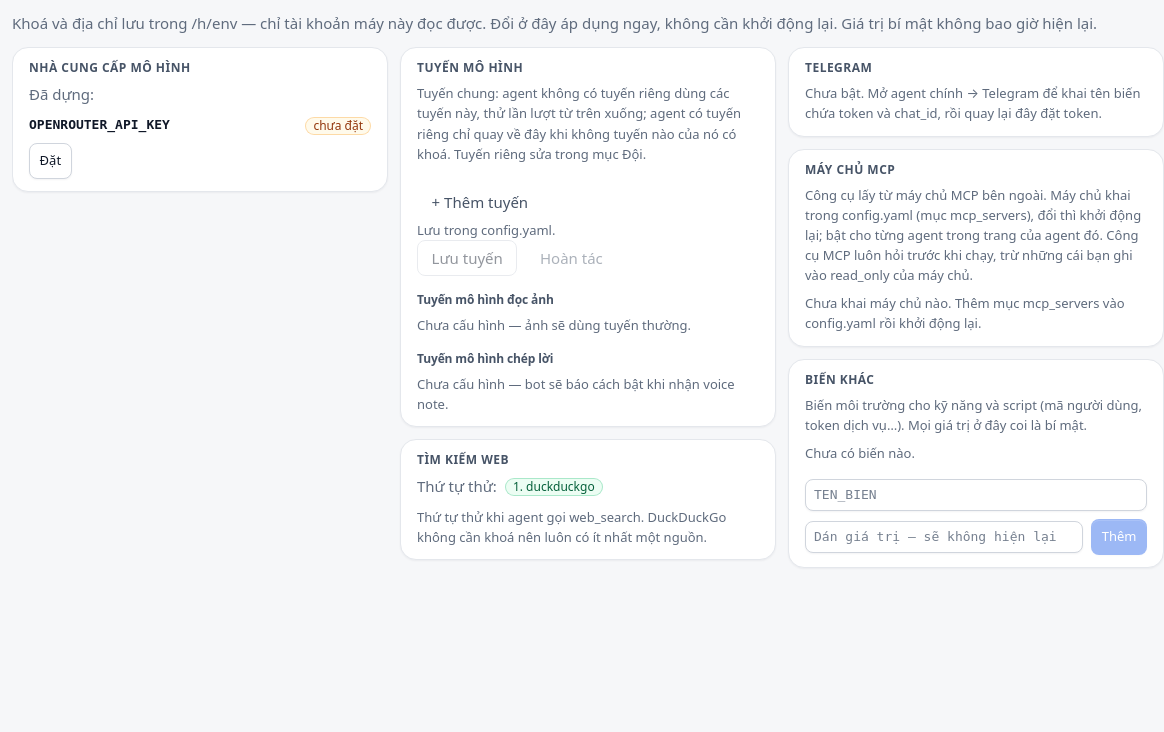
ConnectionsPanel › says why a save was refused
Click the button "Đặt" at (50, 161), box [29,143,72,179]
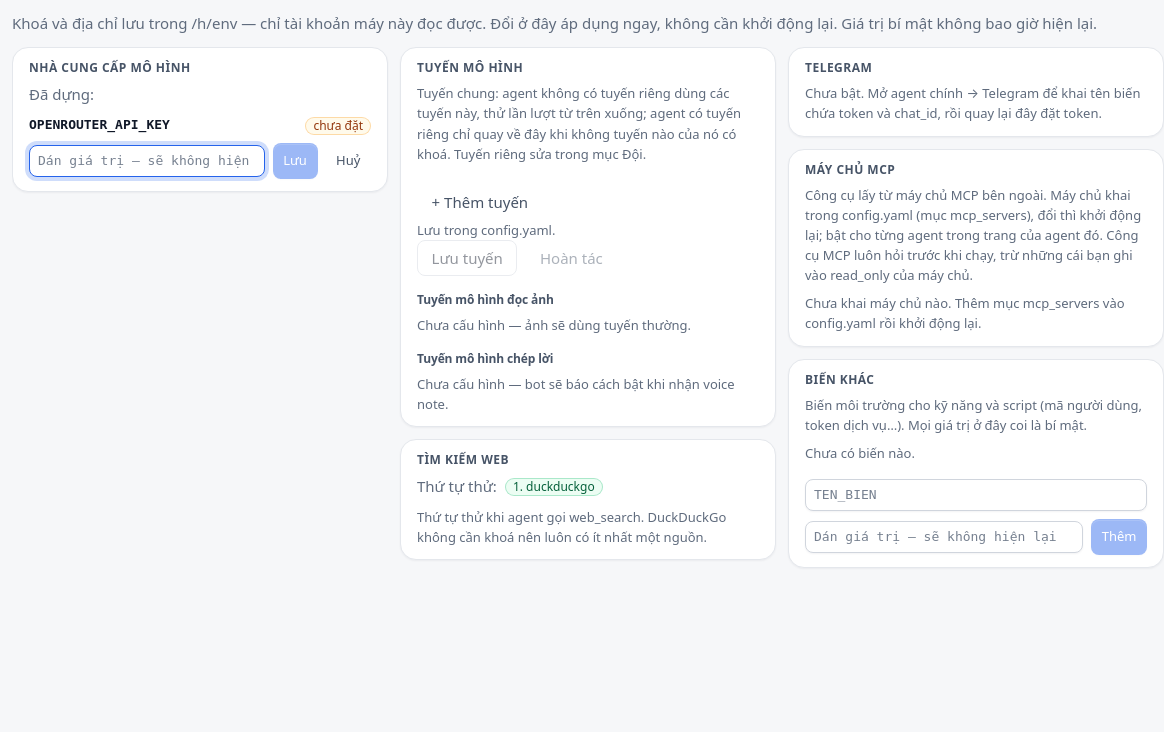
Type "x" into the password field with placeholder "Dán giá trị — sẽ không hiện lại" below "OPENROUTER_API_KEY" at (147, 161), box [29,145,265,176]
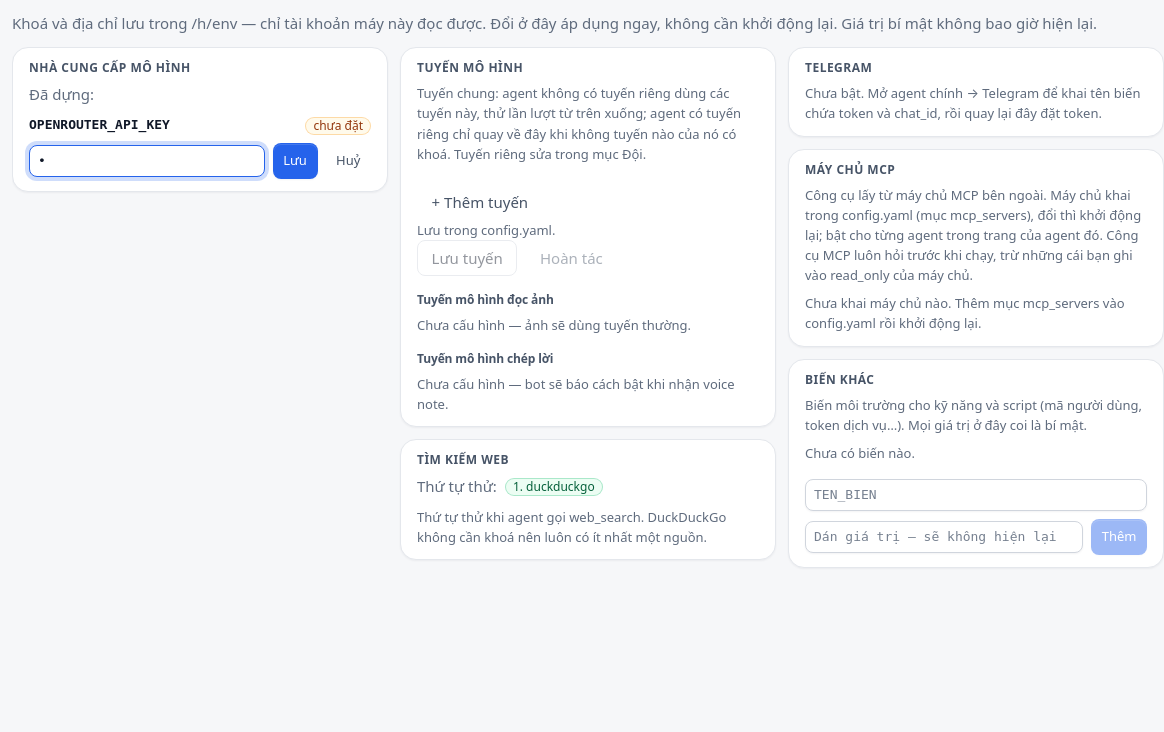
Click the button "Lưu" at (295, 161), box [273,143,318,179]
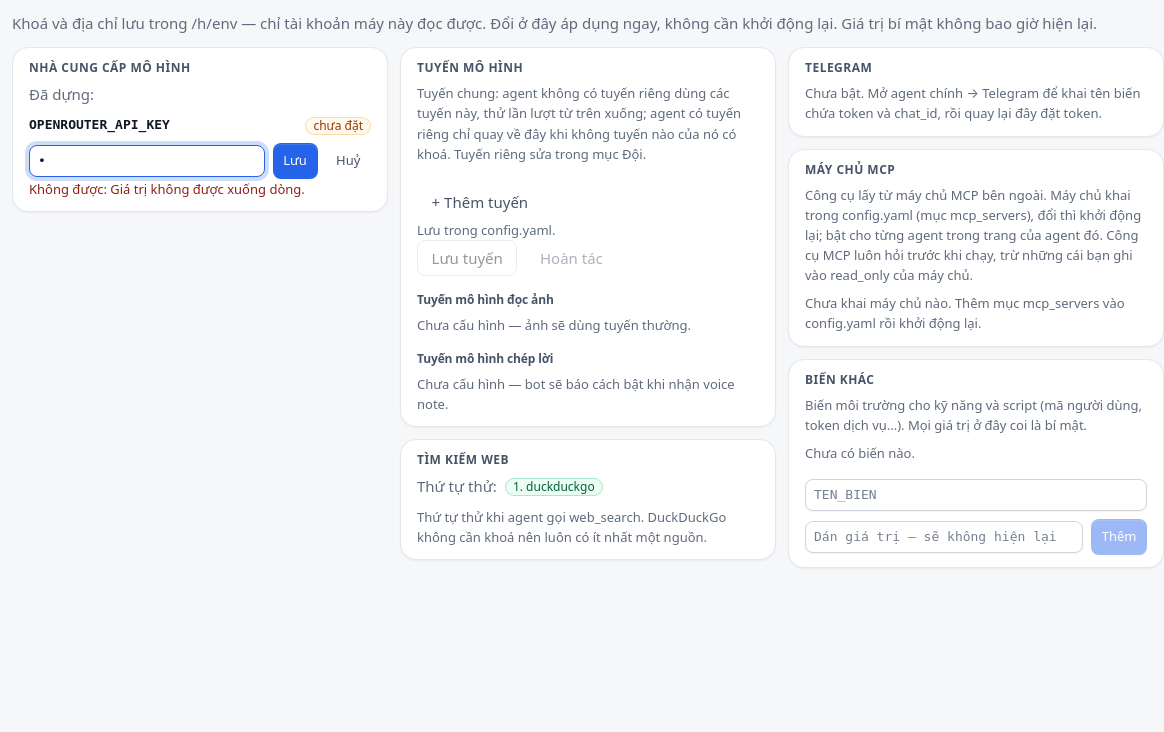
Expected: the message shows "xuống dòng", [29,180,305,198]
